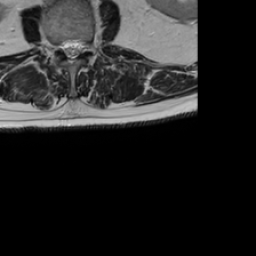CCS_normal: (68, 32, 75, 67)
LFS_normal: (82, 31, 90, 59)
LLS_normal: (75, 32, 82, 63)
RFS_stenosis: (53, 34, 60, 59)
RLS_normal: (60, 33, 68, 59)
